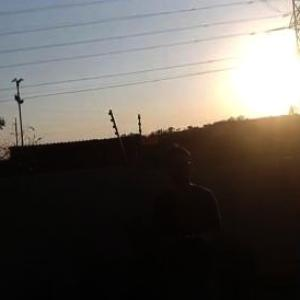follow: (146, 138, 228, 299)
